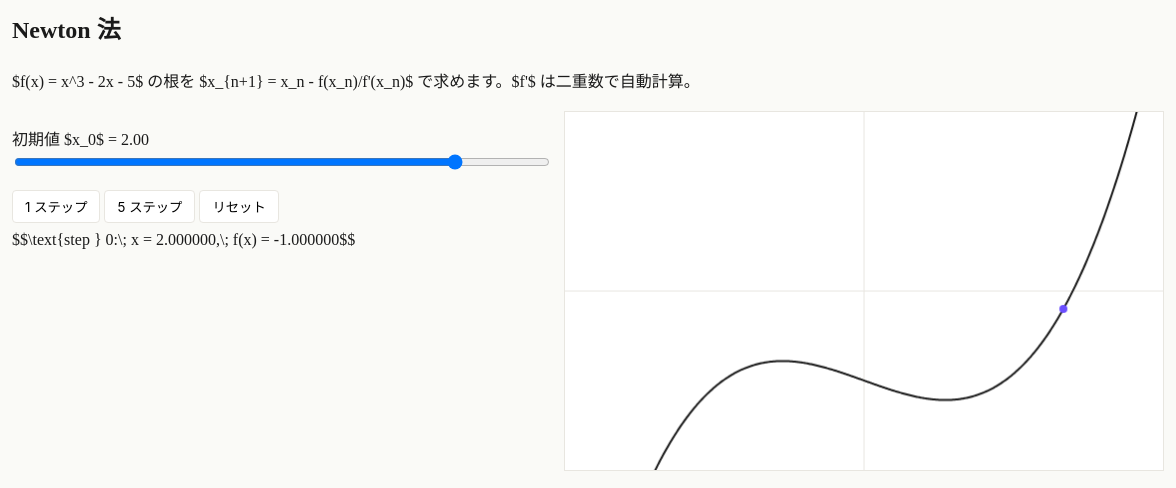
Test case: Newton route › reset button resets to single initial-row state
Step 1. Click the button "1 ステップ" → (56, 206), box [12,190,100,223]
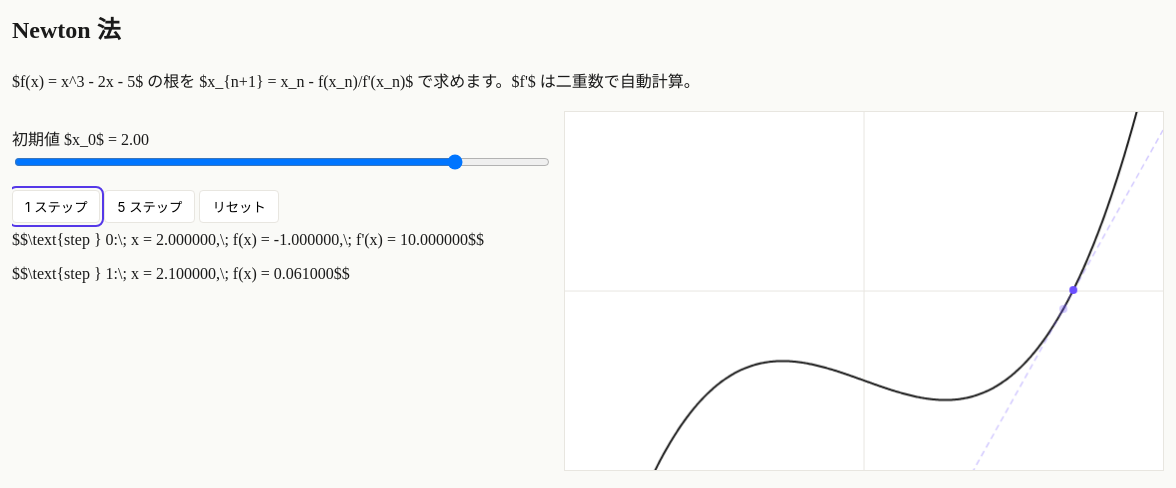
Step 2. Click the button "1 ステップ" → (56, 206), box [12,190,100,223]
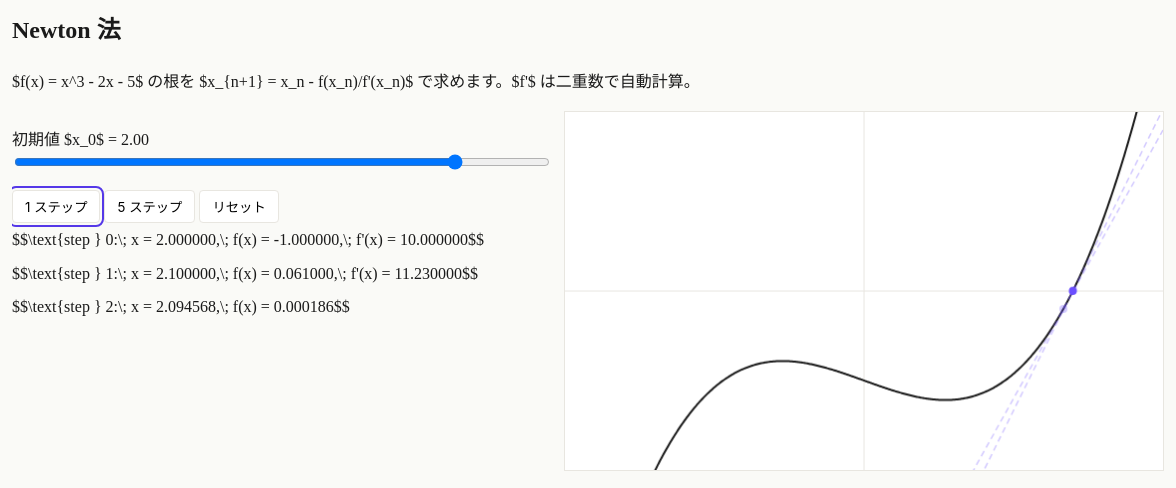
Step 3. Click the button "リセット" → (239, 206), box [200,190,279,223]
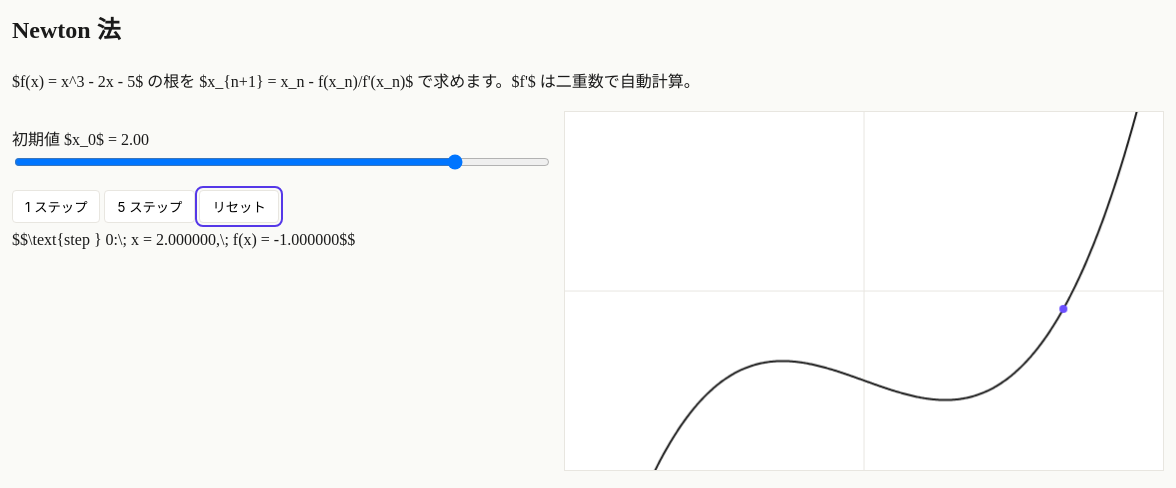
Now the number of elements with class "step-row" is 1, box [12,231,355,248]
